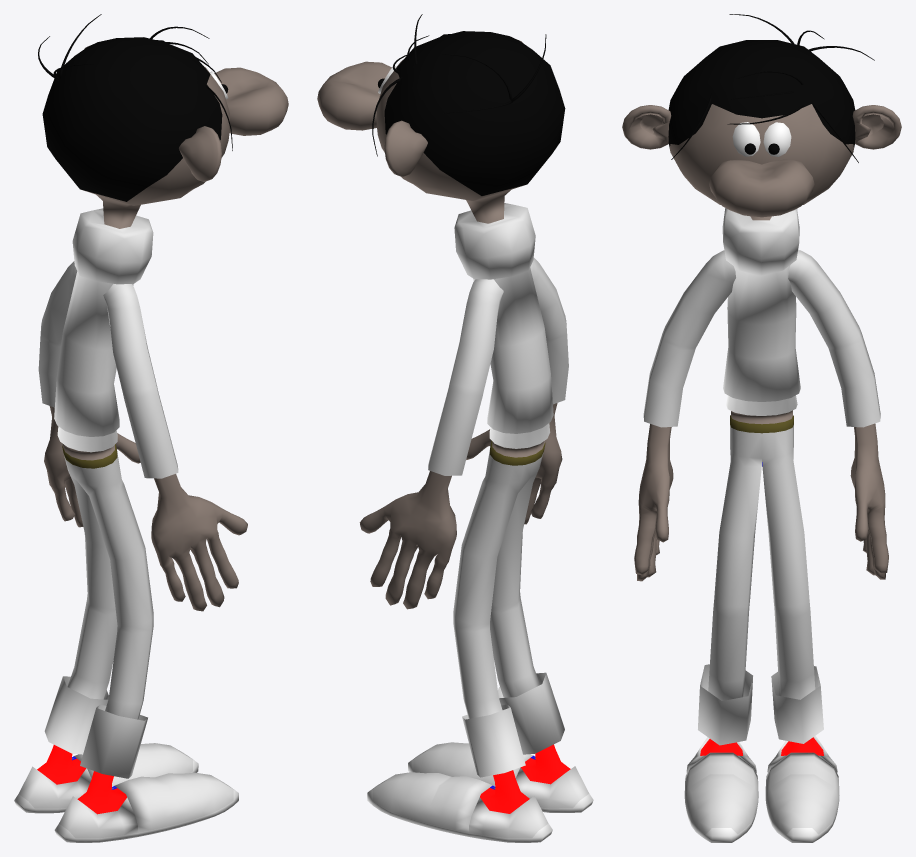
File: spectator_plywood_medium.dae
The picture shows the model from 3 angles, left to right: view 1: azimuth 30°, elevation 25°; view 2: azimuth 150°, elevation 25°; view 3: azimuth 270°, elevation 25°; orthographic projection.
Parts seen in each view (by area): view 1: Spectator; view 2: Spectator; view 3: Spectator.
Boxes of the visible parts, left/top/right/bottom form: Spectator: left=14, top=14, right=288, bottom=842; Spectator: left=317, top=14, right=593, bottom=842; Spectator: left=622, top=14, right=901, bottom=842.
Bounding box in the file's own units: 0.5277 × 0.5296 × 1.6.
